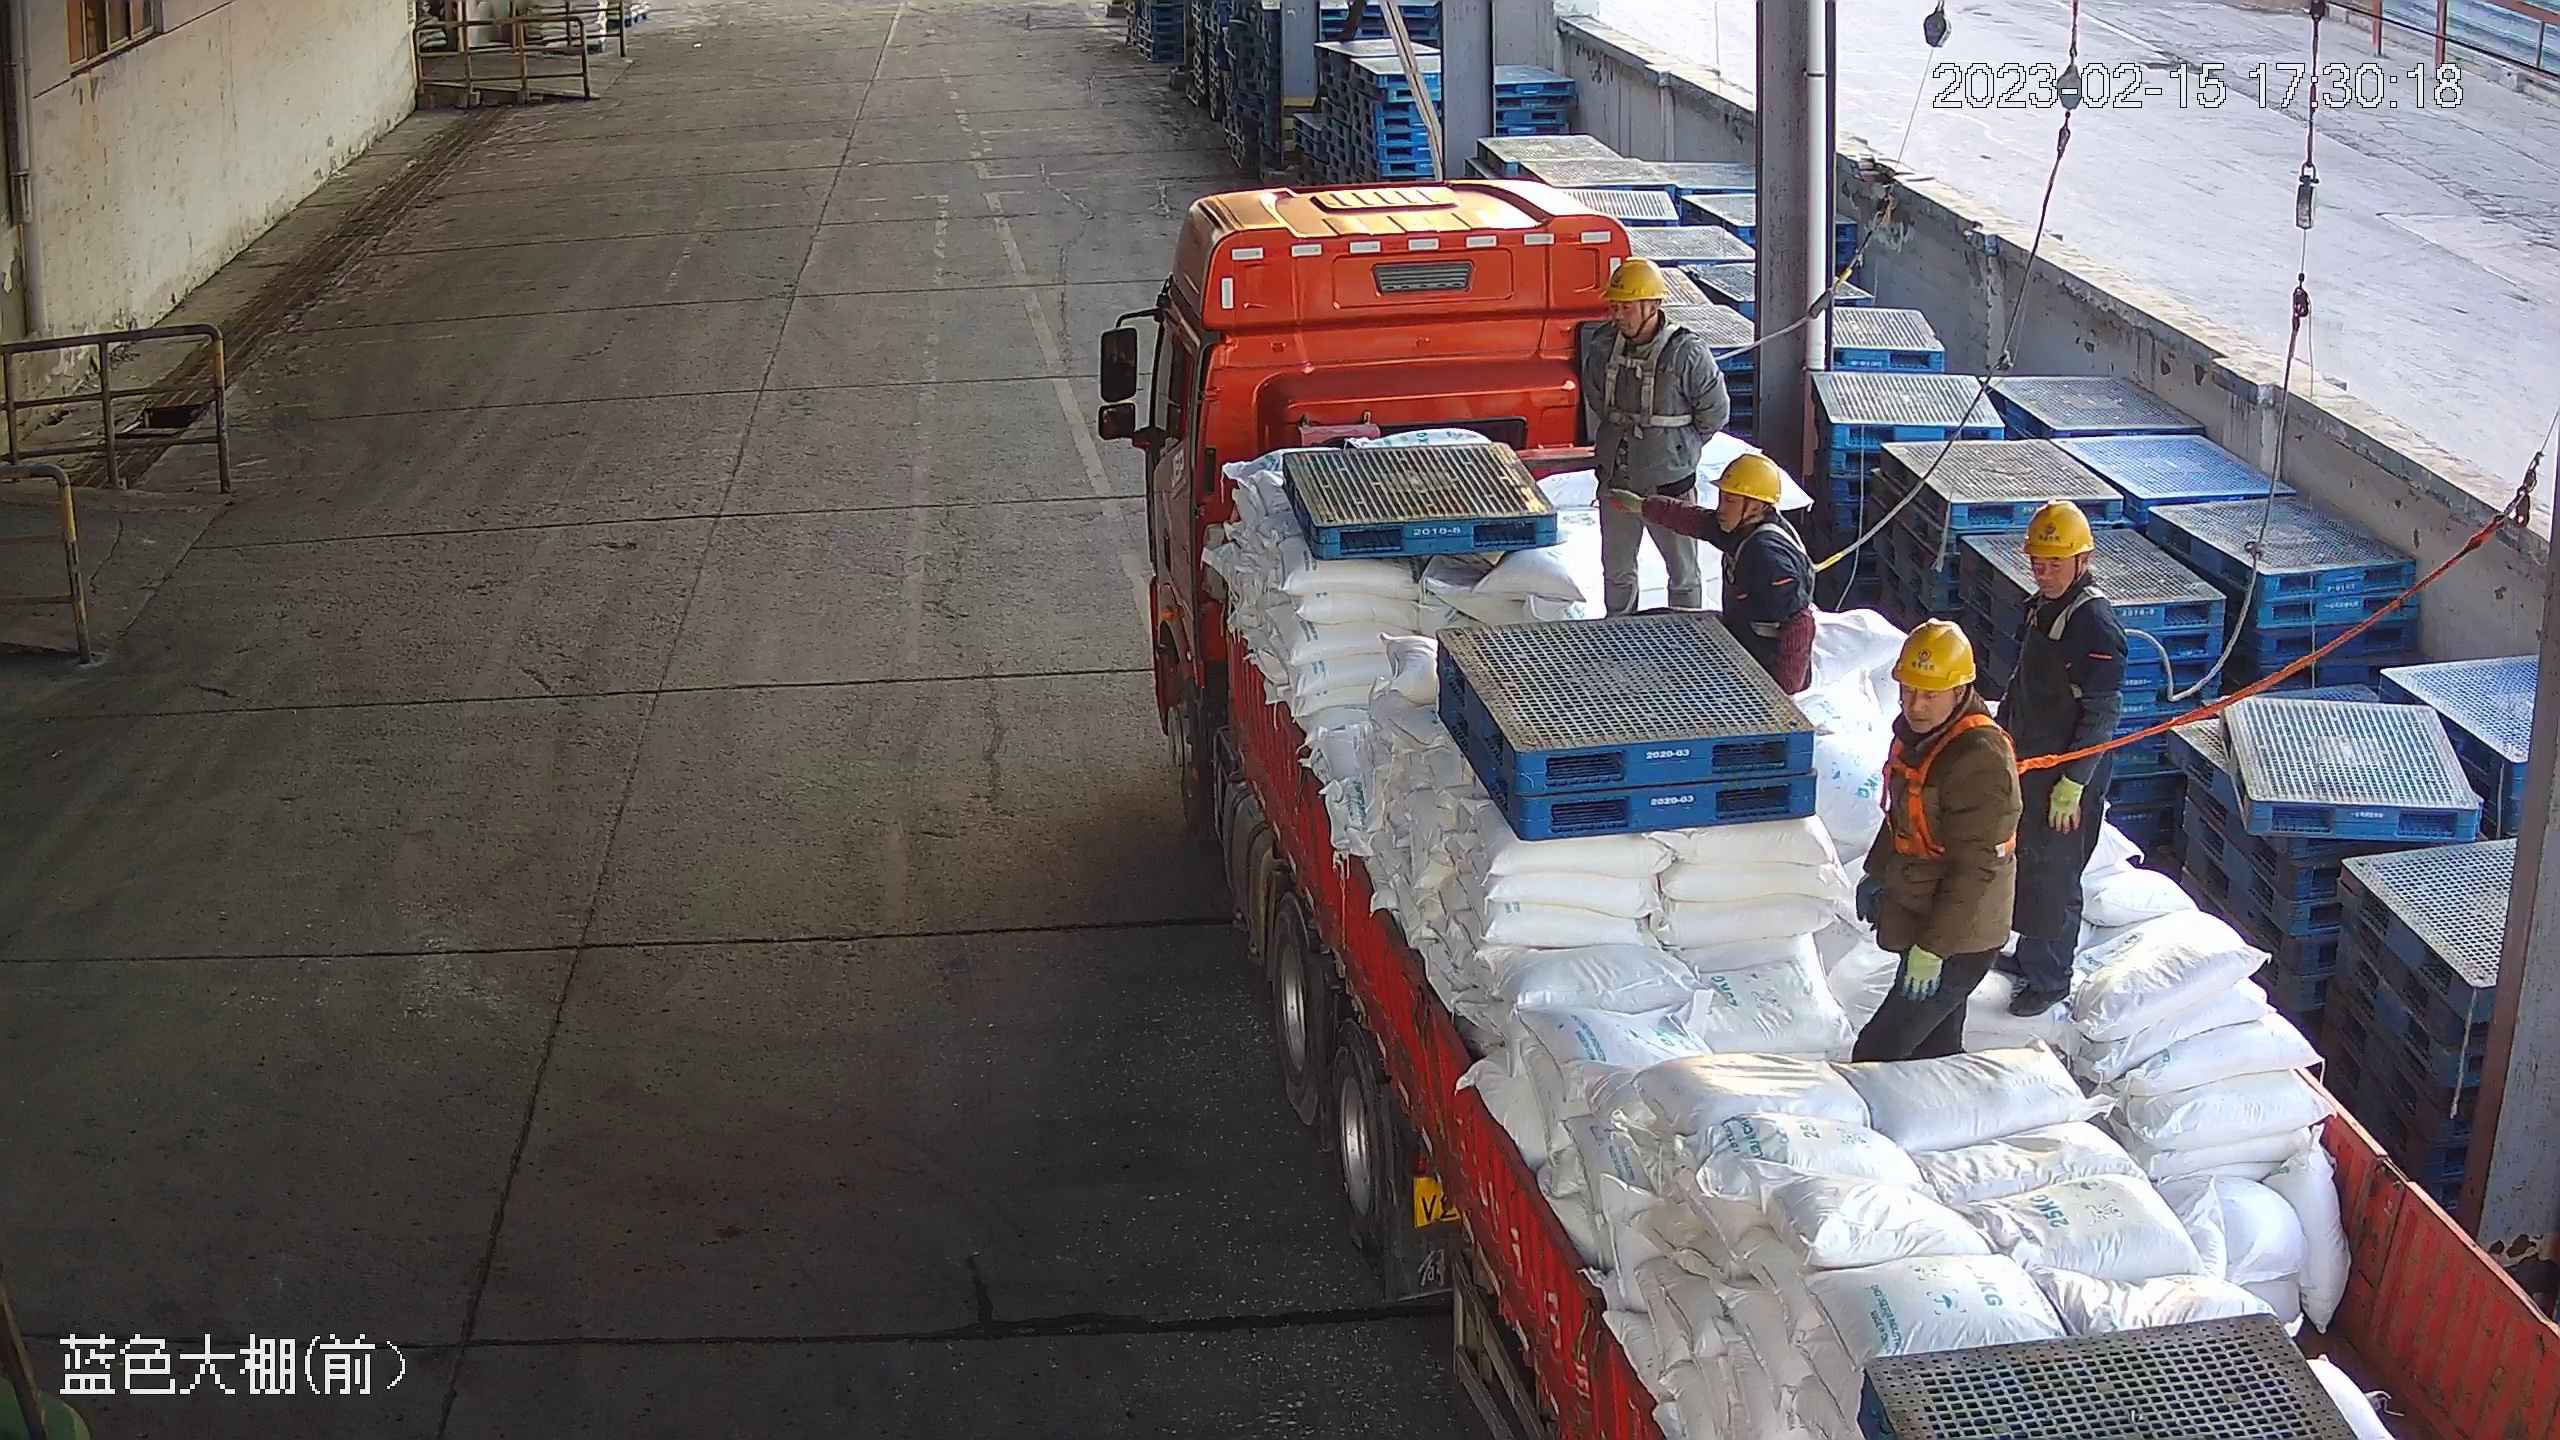head: (1883, 615, 2022, 780), (2011, 498, 2130, 657), (1695, 452, 1815, 581), (1585, 255, 1716, 359)
helmet: (1890, 617, 1978, 693), (2021, 497, 2098, 559), (1708, 452, 1783, 506), (1598, 255, 1670, 302)
people: (1847, 616, 2033, 1066), (1991, 497, 2131, 1019), (1575, 255, 1733, 623), (1602, 453, 1818, 699)
truck: (1138, 175, 2560, 1440)
